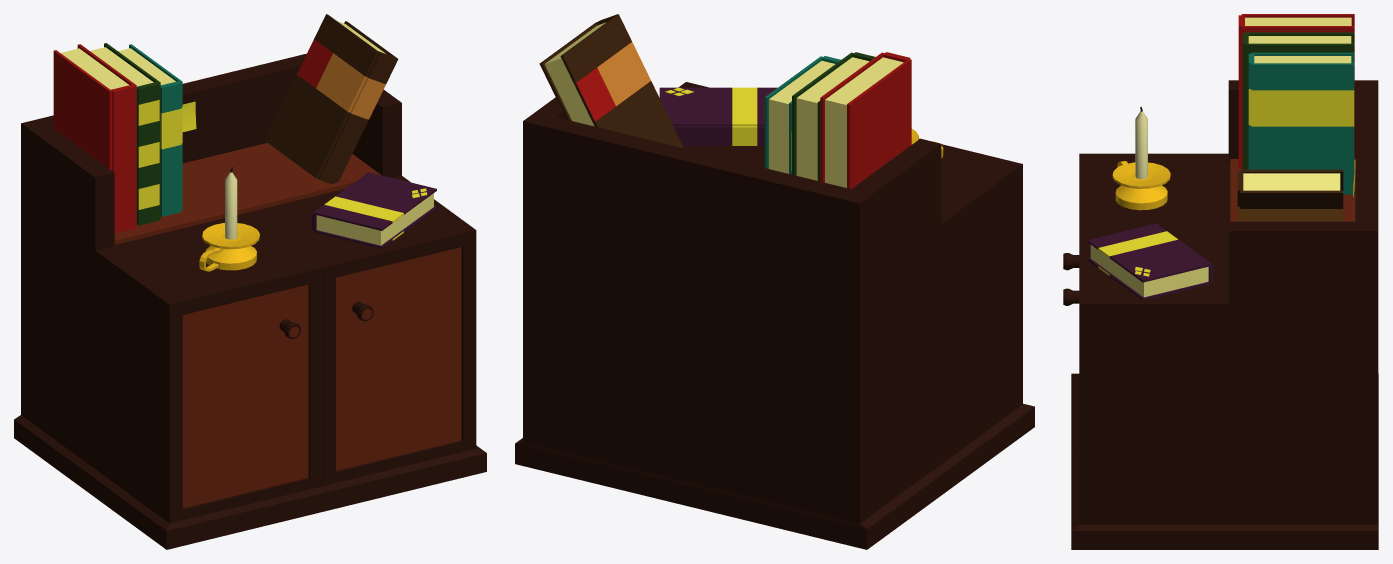
File: Bookshelf_fbx.FBX
The picture shows the model from 3 angles, left to right: view 1: azimuth 30°, elevation 25°; view 2: azimuth 150°, elevation 25°; view 3: azimuth 270°, elevation 25°; orthographic projection. The views are drawn at different scales.
Visible parts, largest first — view 1: Box002, Books, Box001, Box003, Cylinder001; view 2: Box002, Books, Box001, Box003; view 3: Box002, Books, Box003, Box001, Cylinder001.
Boxes of the visible parts, x1,y1,x2,y2 form: Box002: (14,53,486,549); Books: (90,14,398,225); Box001: (53,44,136,233); Box003: (311,172,436,248); Cylinder001: (199,167,259,271); Box002: (515,82,1034,549); Books: (539,14,875,181); Box001: (820,52,911,188); Box003: (659,87,777,145); Box002: (1063,80,1378,549); Books: (1237,32,1354,221); Box003: (1087,223,1213,300); Box001: (1238,14,1354,169); Cylinder001: (1112,107,1170,210).
Bounding box in the file's own units: 51.6 × 59.99 × 43.73.
